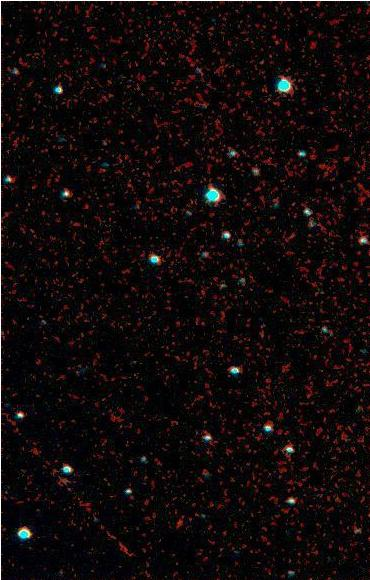star: (166, 506, 196, 536)
